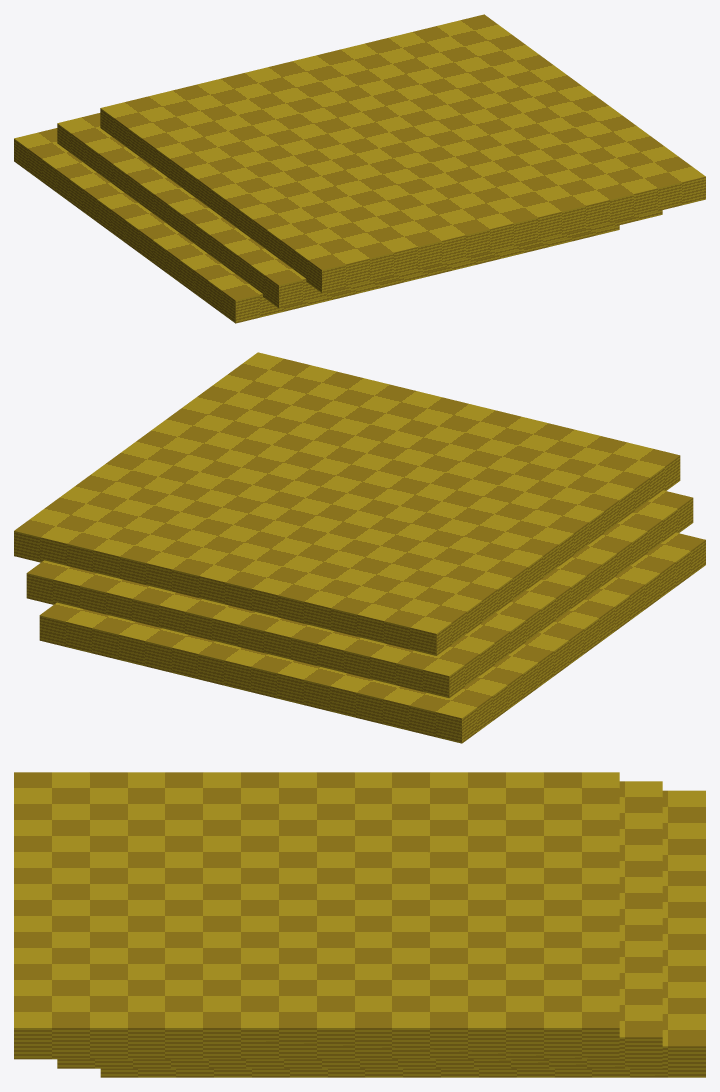
Rendered from prop_stickies.glb.
3 views of the same model, one above another, from view 1: azimuth 30°, elevation 25°; view 2: azimuth 150°, elevation 25°; view 3: azimuth 270°, elevation 25° (orthographic). The views are drawn at different scales.
Visible parts, largest first — view 1: prop_stickies; view 2: prop_stickies; view 3: prop_stickies.
Boxes of the visible parts, x1=… form: prop_stickies: x1=14, y1=14, x2=705, y2=323; prop_stickies: x1=14, y1=352, x2=705, y2=743; prop_stickies: x1=14, y1=772, x2=705, y2=1077.
Size of the model in its own units: 0.16 by 0.022 by 0.16.
1 material, 1 textured.
